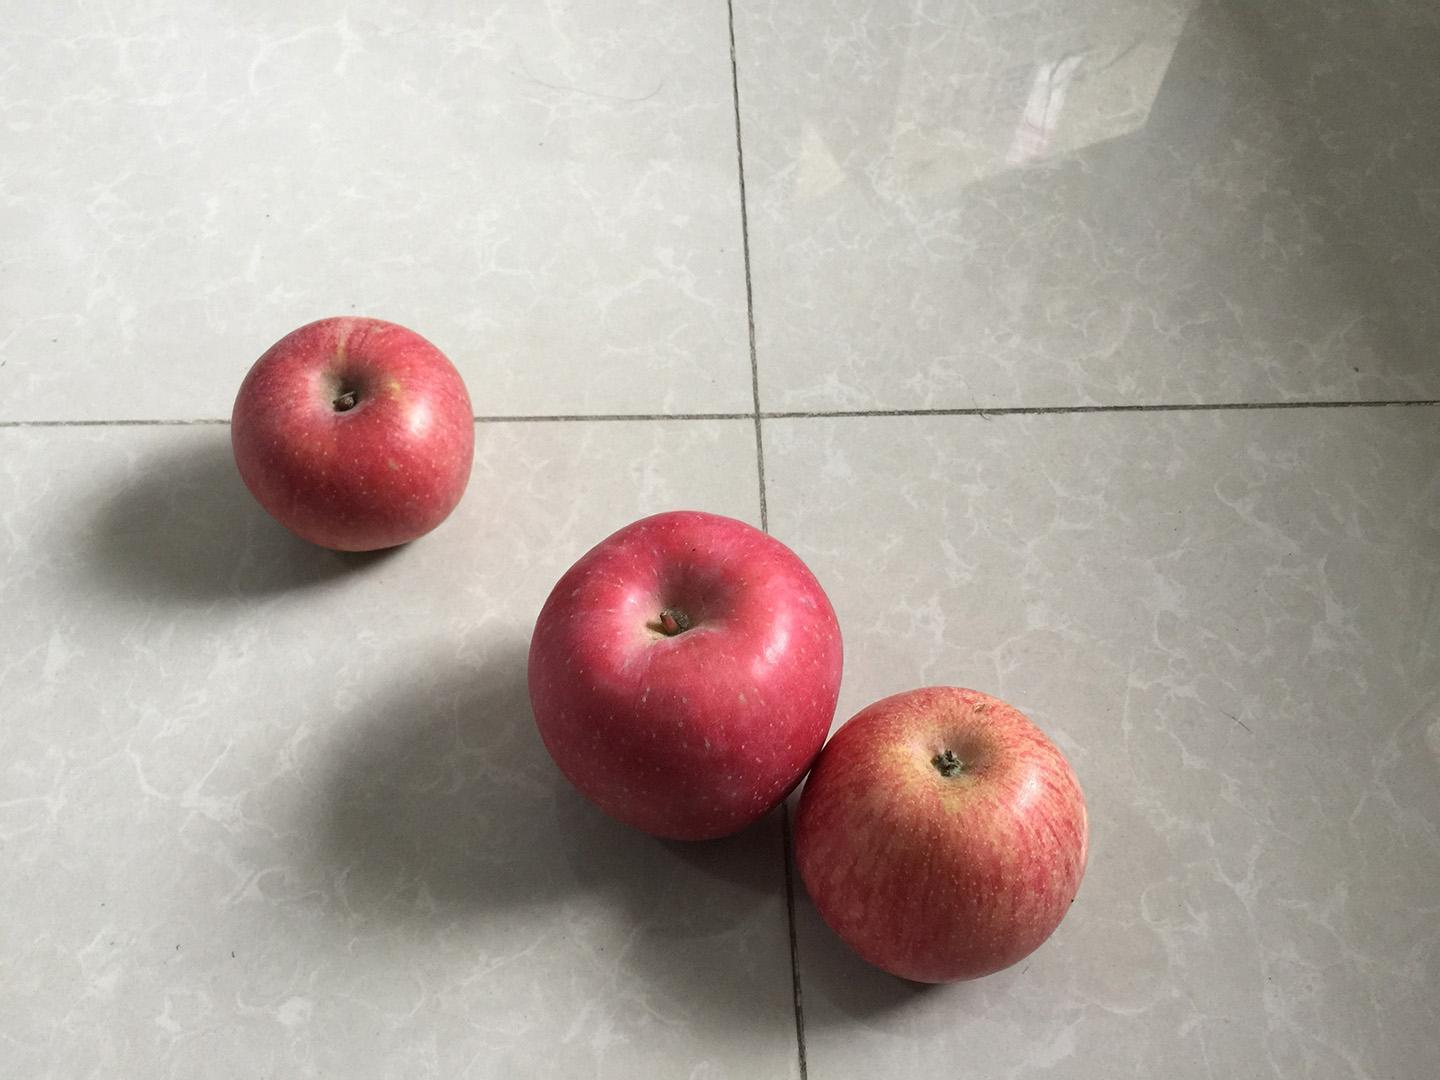apple: (520, 495, 852, 849), (786, 680, 1096, 989), (222, 307, 483, 558)
